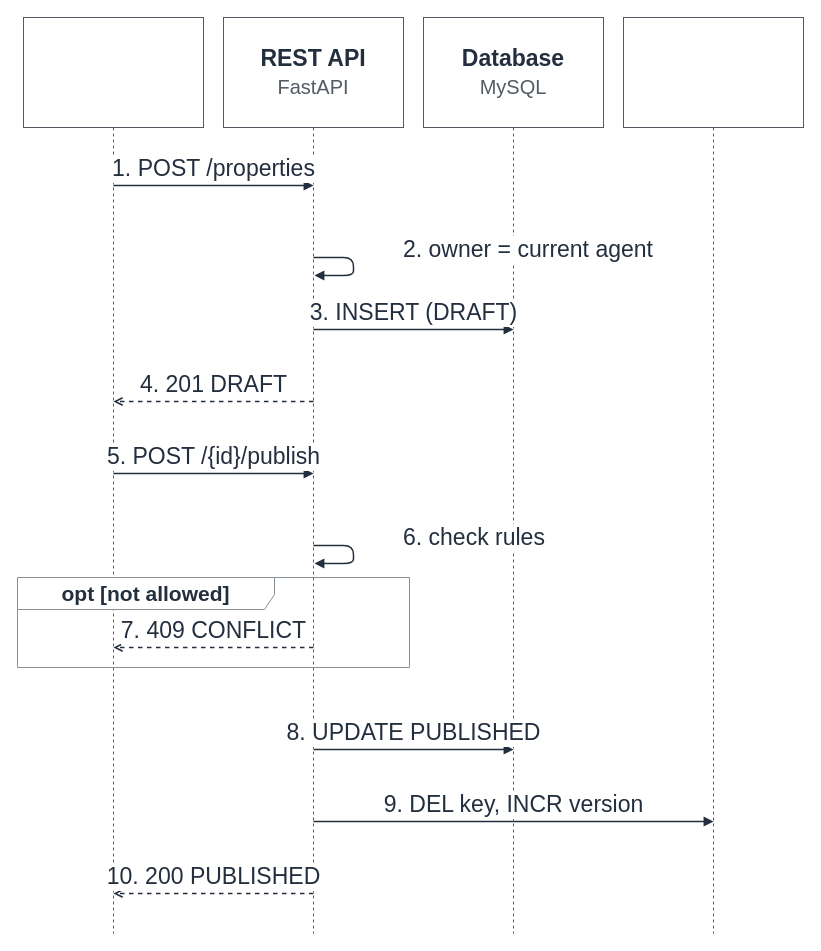
The diagram is 821 pixels wide and 951 high, and some of its shapes have lost their labels. The shapes that lost their labels are listed below. From the top down, each one's box as (x1, y1, x2, y2) in pixels, then its label:
(22, 16, 204, 934): Agent Nuxt dashboard
(622, 16, 804, 934): Cache Redis
